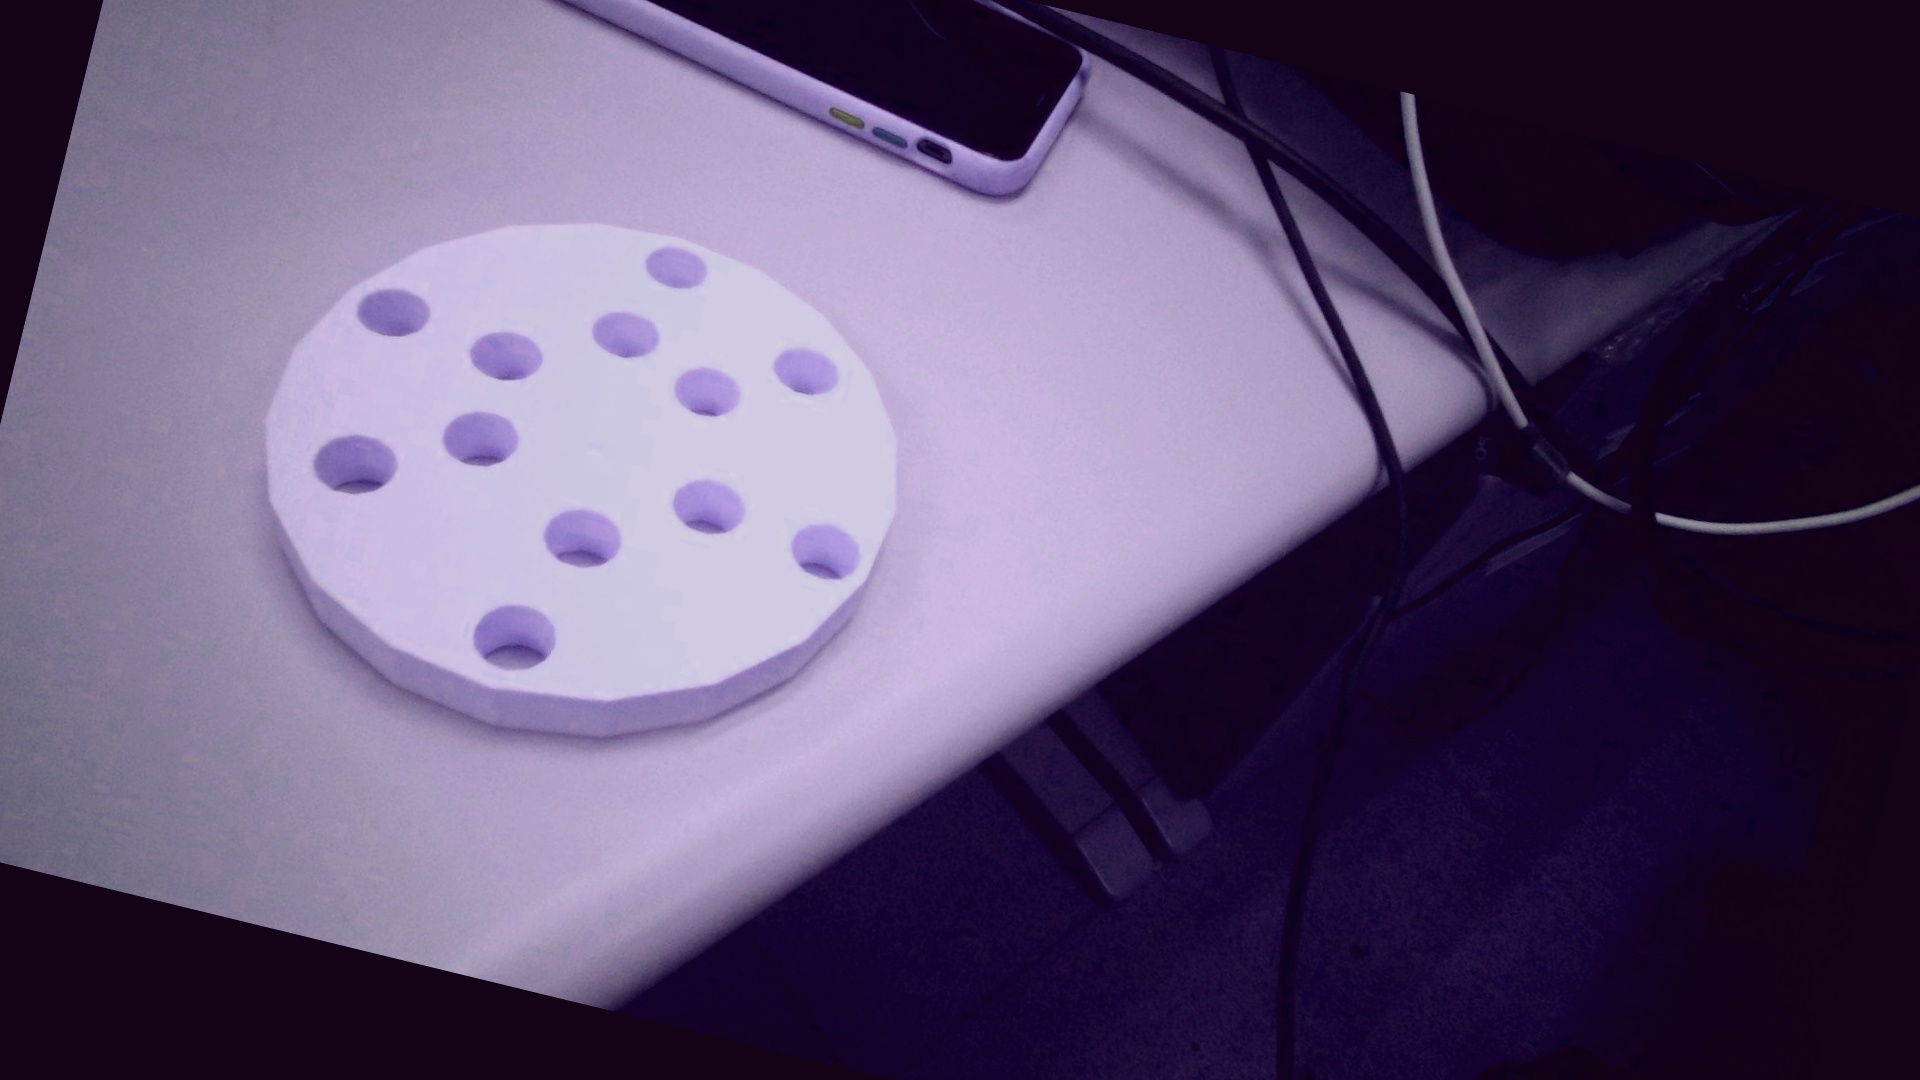hole: (458, 313, 559, 396), (306, 421, 402, 508), (465, 596, 564, 680), (433, 397, 527, 476), (344, 272, 440, 349), (541, 498, 629, 579), (669, 469, 749, 547), (671, 361, 742, 431), (589, 302, 665, 367), (636, 237, 713, 297), (796, 524, 865, 585), (770, 343, 839, 401)
obj: (193, 128, 953, 829)
